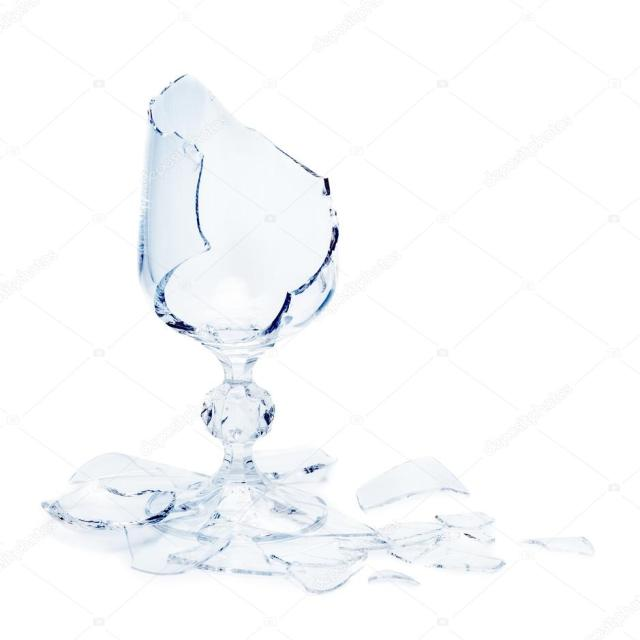Dry Waste: (130, 70, 343, 541)
